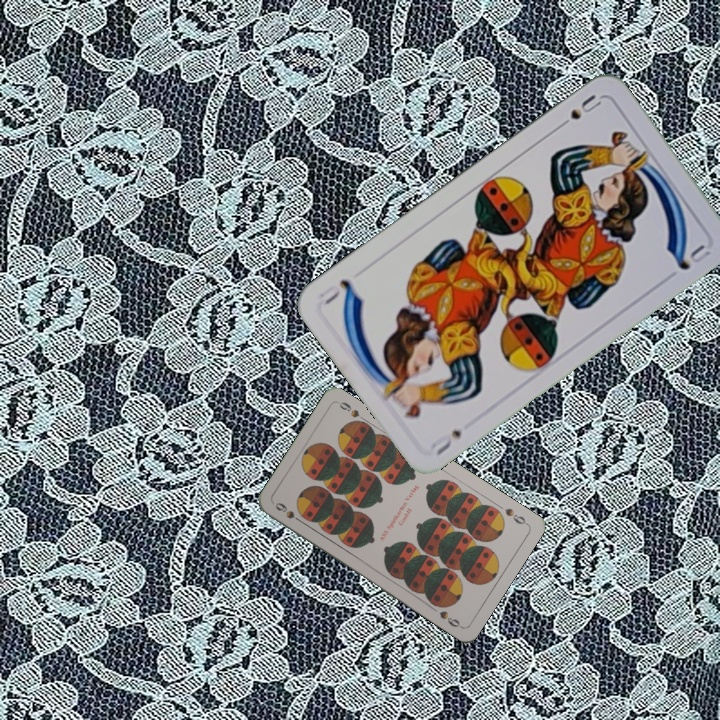S9: (271, 498, 307, 526), (501, 504, 530, 527)
SU: (552, 90, 604, 133), (427, 425, 465, 458)
